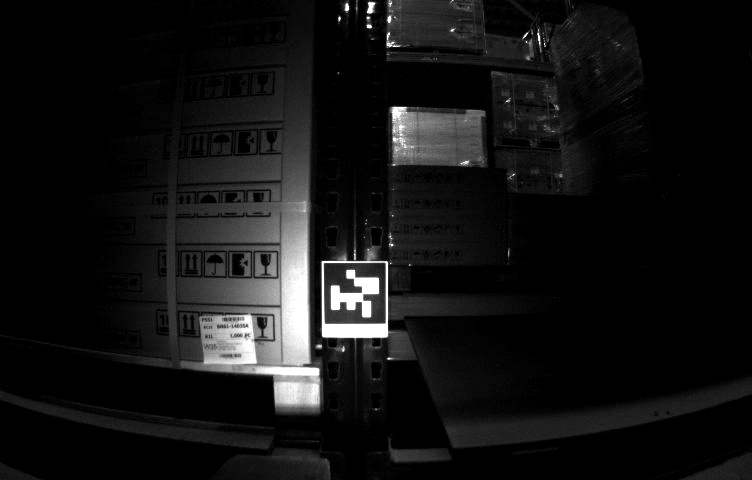True Barcode: (198, 312, 264, 367)
